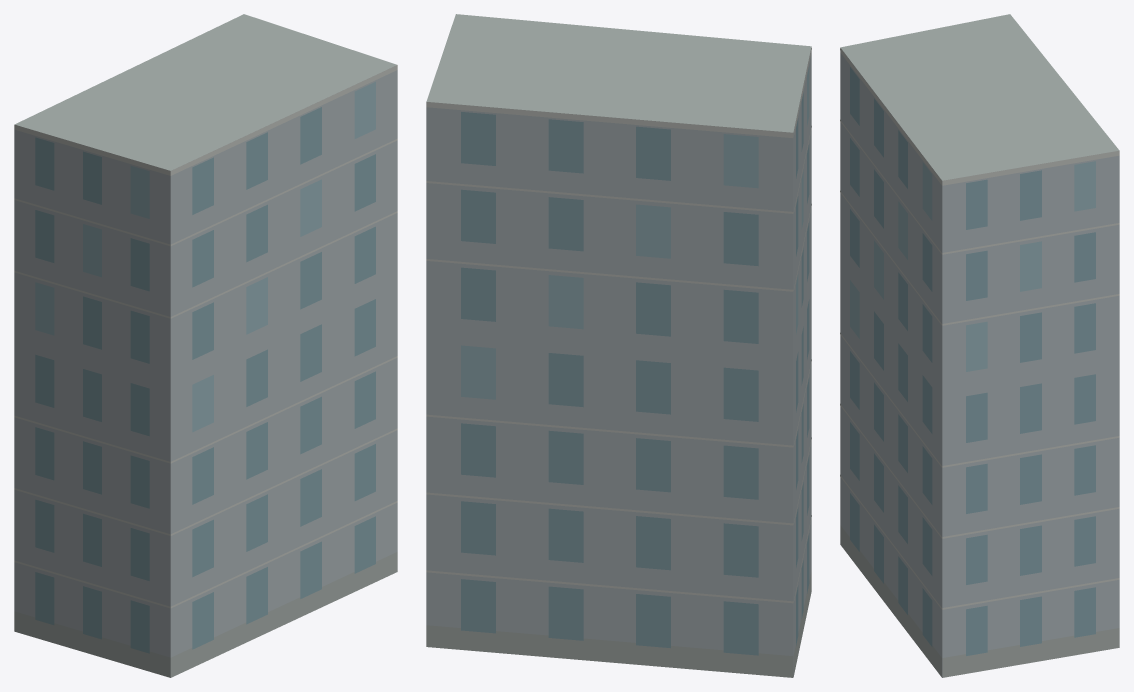
Rendered from survey-upis-32827986.glb.
The picture shows the model from 3 angles, left to right: view 1: azimuth 30°, elevation 25°; view 2: azimuth 150°, elevation 25°; view 3: azimuth 270°, elevation 25°; orthographic projection. The views are drawn at different scales.
Visible parts, largest first — view 1: survey-upis-32827986.tmp; view 2: survey-upis-32827986.tmp; view 3: survey-upis-32827986.tmp.
Boxes of the visible parts, bbox=[...] form: survey-upis-32827986.tmp: bbox=[14, 14, 397, 677]; survey-upis-32827986.tmp: bbox=[426, 14, 811, 677]; survey-upis-32827986.tmp: bbox=[840, 14, 1119, 677].
Bounding box in the file's own units: 17.51 × 24.3 × 12.4.
